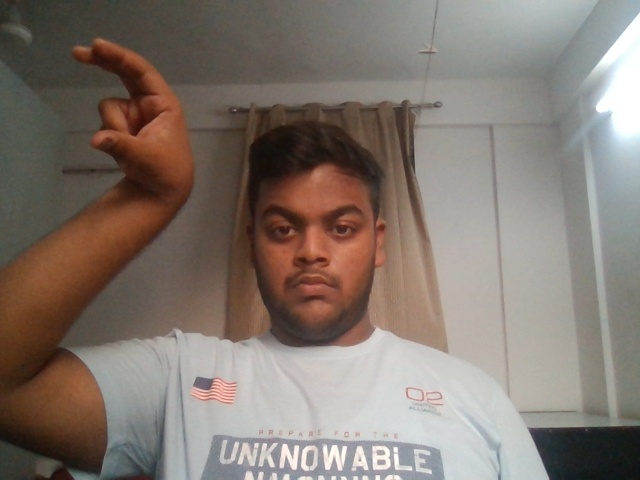No: (42, 16, 207, 253)
